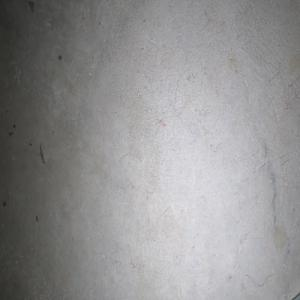Pen: (293, 293, 300, 300)
